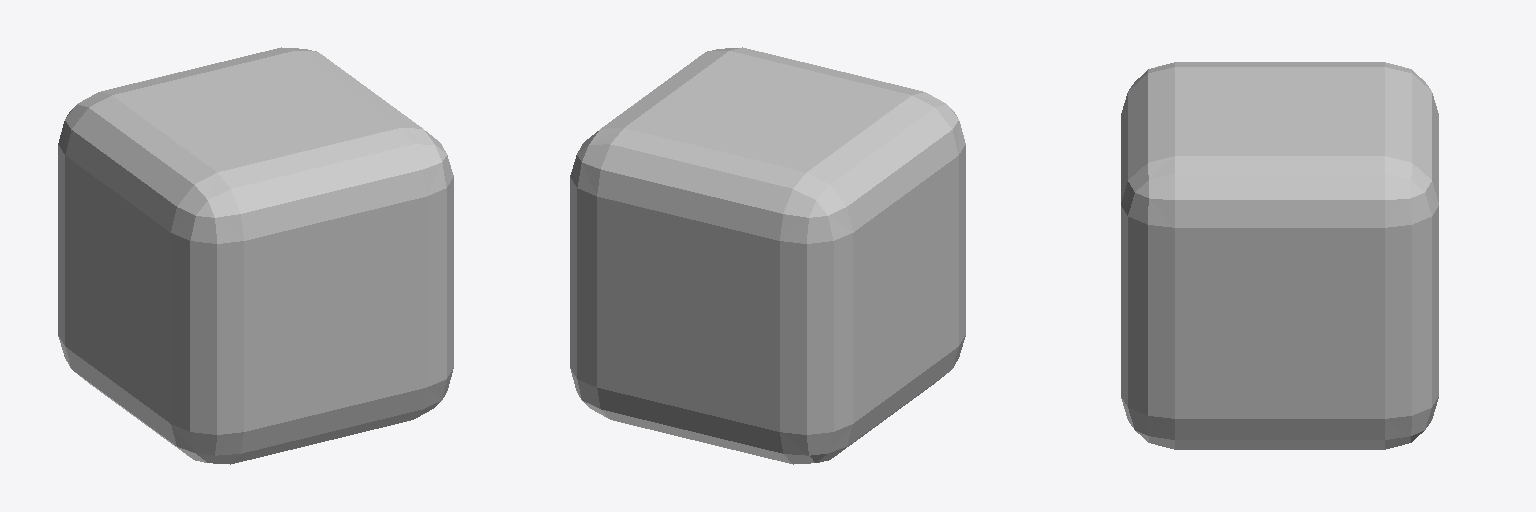
File: lesson_11_rounded_die.obj
The picture shows the model from 3 angles: view 1: azimuth 30°, elevation 25°; view 2: azimuth 150°, elevation 25°; view 3: azimuth 270°, elevation 25°; orthographic projection.
Visible parts, largest first — view 1: Cube; view 2: Cube; view 3: Cube.
Part boxes in pixels (bbox=[...]): Cube: bbox=[58, 47, 453, 464]; Cube: bbox=[570, 47, 965, 464]; Cube: bbox=[1121, 62, 1438, 449].
Bounding box in the file's own units: 2 × 2 × 2.